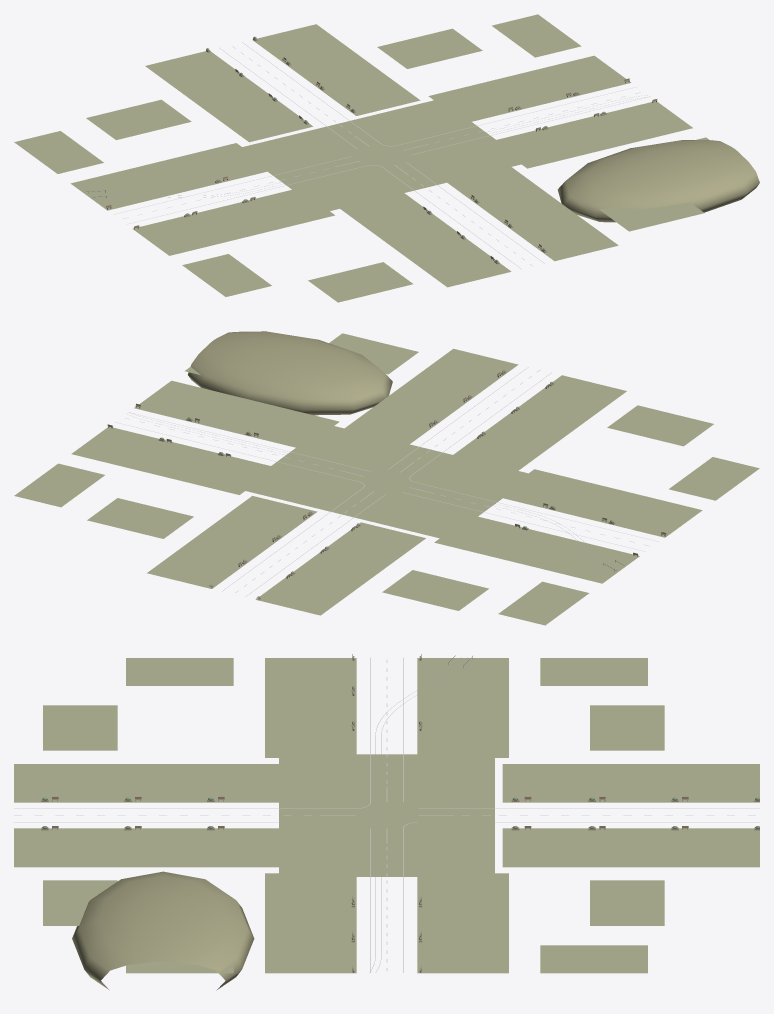
The picture shows the model from 3 angles, top to bottom: view 1: azimuth 30°, elevation 25°; view 2: azimuth 150°, elevation 25°; view 3: azimuth 270°, elevation 25°; orthographic projection. The views are drawn at different scales.
Visible parts, largest first — view 1: static; view 2: static; view 3: static.
Boxes of the visible parts, x1,y1,x2,y2 form: static: (14,14,759,302); static: (14,331,759,625); static: (14,654,759,990).
Size of what is drawn, in the model's own units: 180 by 14.08 by 180.
